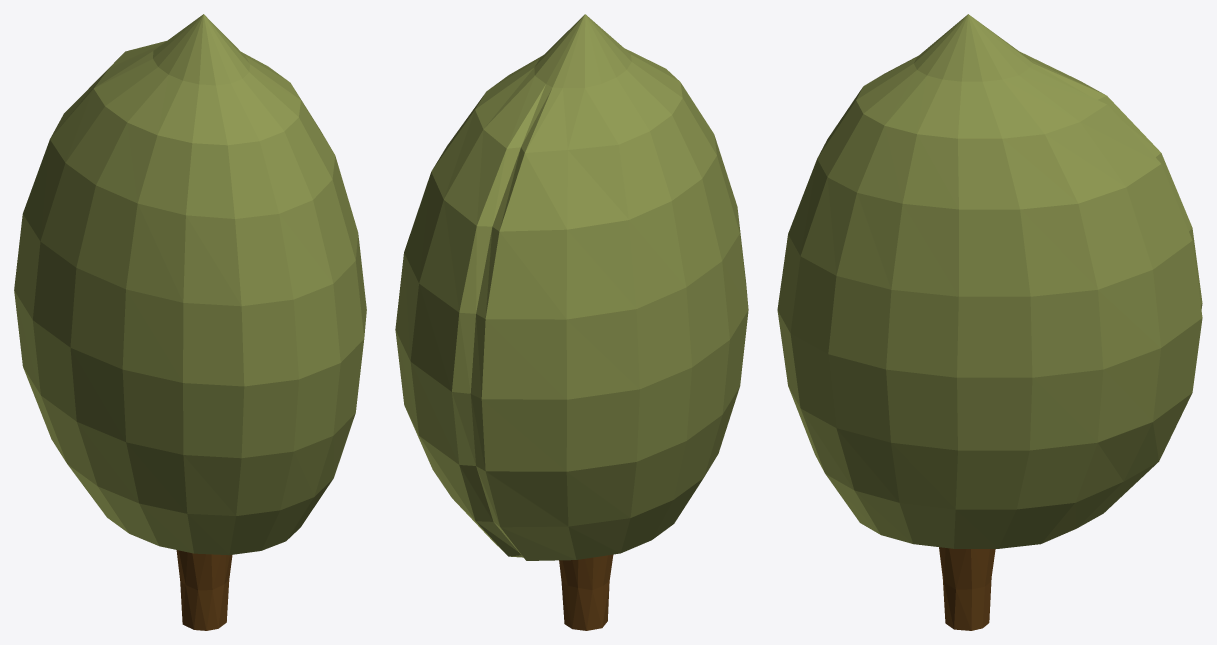
The model's file is AlmondHull.obj.
The picture shows the model from 3 angles, left to right: view 1: azimuth 30°, elevation 25°; view 2: azimuth 150°, elevation 25°; view 3: azimuth 270°, elevation 25°; orthographic projection.
Visible parts, largest first — view 1: fruit, stem; view 2: fruit, stem; view 3: fruit, stem.
Boxes of the visible parts, x1,y1,x2,y2 form: fruit: (14,14,366,555); stem: (176,550,232,630); fruit: (395,14,748,560); stem: (559,554,613,630); fruit: (777,14,1202,548); stem: (939,547,995,630).
Bounding box in the file's own units: 1.18 × 2.47 × 1.57.
